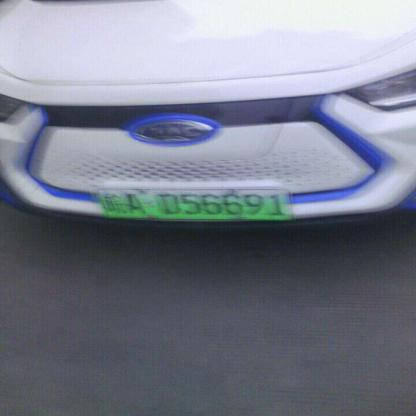lp: (98, 189, 292, 219)
